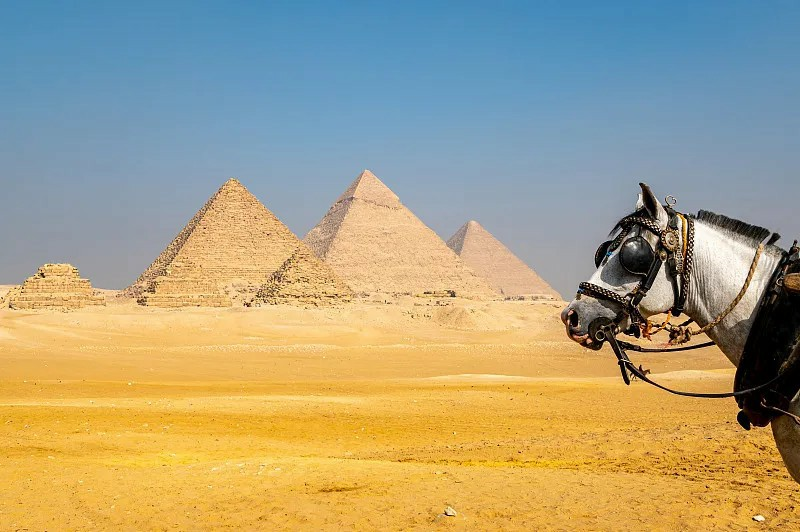Pyramid: (303, 169, 503, 302), (117, 178, 302, 307), (446, 220, 562, 302), (248, 246, 365, 305), (137, 253, 236, 306), (8, 263, 106, 309)
